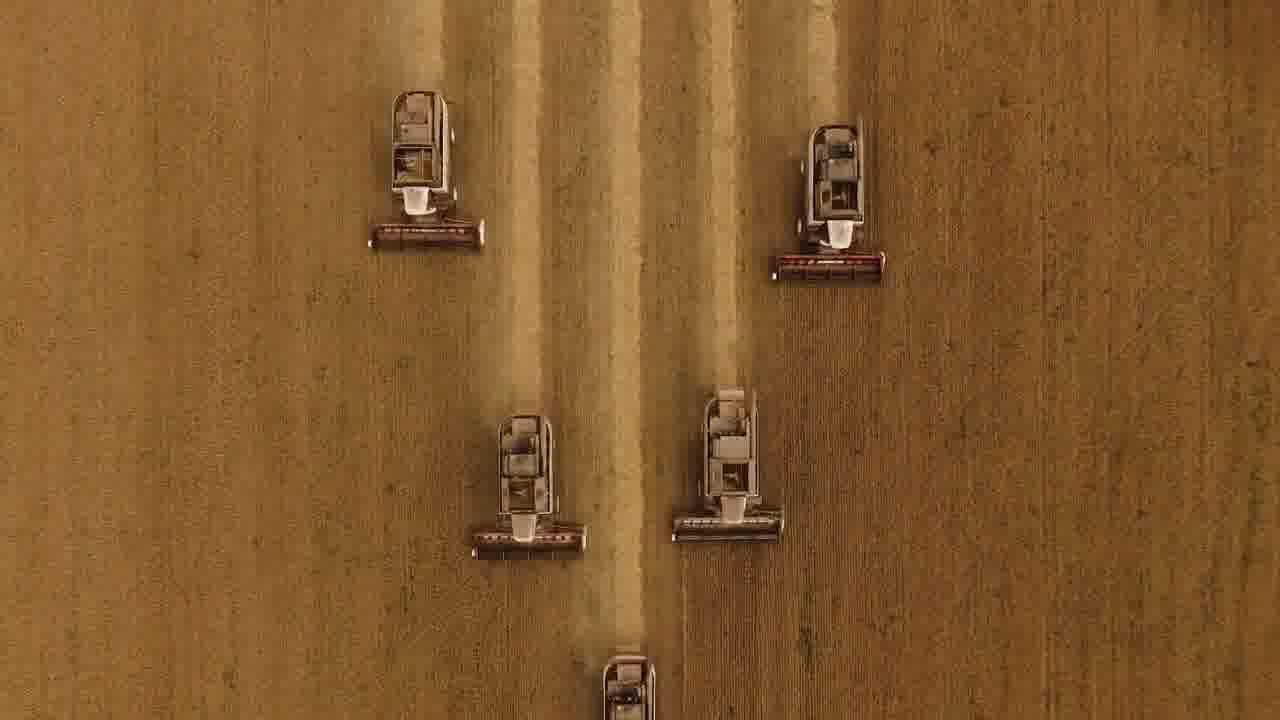combine harvester: (758, 114, 895, 296), (655, 376, 790, 553), (355, 89, 488, 253), (468, 406, 588, 564), (596, 642, 667, 720)
